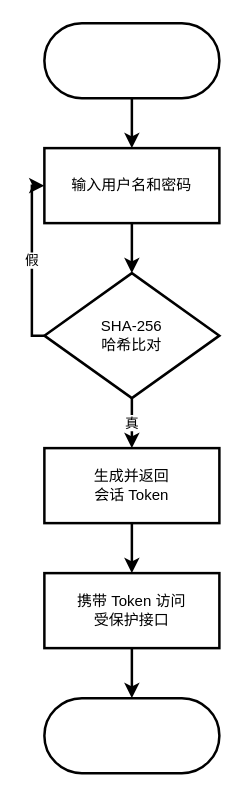
The diagram is 241 pixels wide and 795 high, and some of its shapes have lost their labels. The shapes that lost their labels are listed below. From the top down, each one's box as (x1, y1, x2, y2) in pixels, then its label:
(42, 21, 220, 99): 开始
(42, 696, 220, 774): 结束
